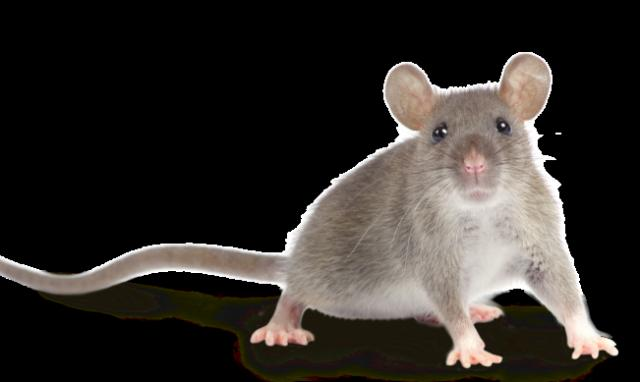rat: (152, 46, 638, 382)
